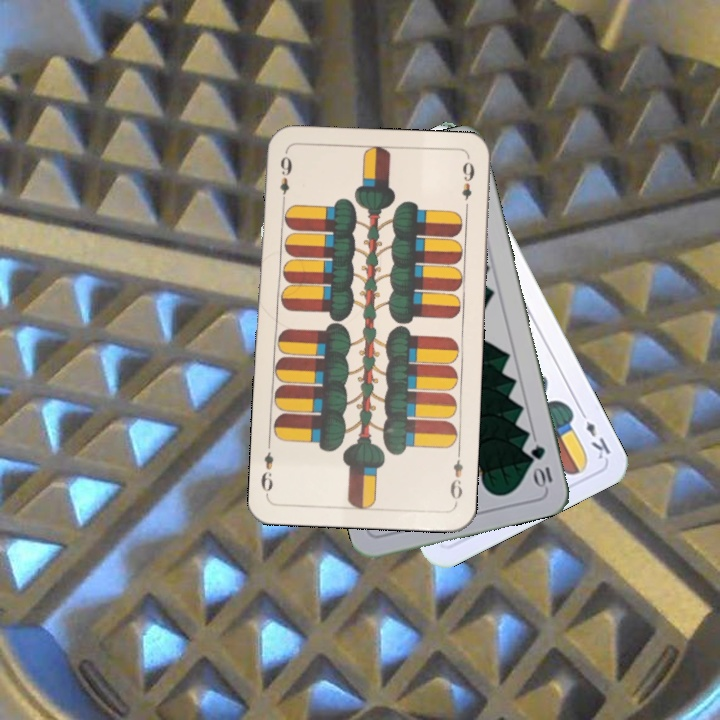E9: (446, 447, 466, 506), (276, 149, 295, 208)
EK: (575, 405, 613, 462)
G10: (527, 441, 555, 490)
